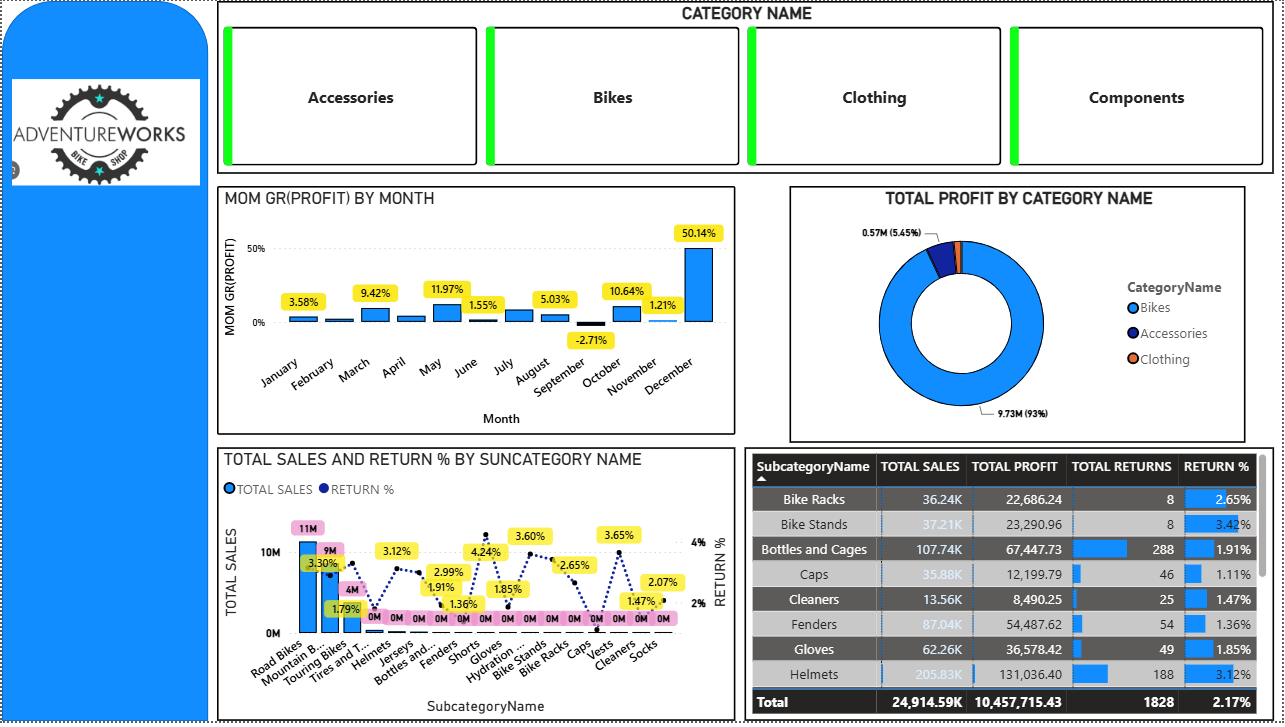

What the dashboard file says about the page in this screenshot:
{"tool":"powerbi","page":{"name":"CATEGORY ANALYSIS","canvas":[1280,720],"ordinal":2},"visuals":[{"type":"lineClusteredColumnComboChart","title":"TOTAL SALES AND RETURN % BY SUNCATEGORY NAME","fields":{"Category":["Product Subcategories Lookup csv.SubcategoryName"],"Y":["ALL MEASURES.TOTAL SALES"],"Y2":["ALL MEASURES.RETURN %"]},"box":[214.7,446.4,518.8,273.9],"z":0},{"type":"tableEx","fields":{"Values":["Product Subcategories Lookup csv.SubcategoryName","ALL MEASURES.TOTAL SALES","ALL MEASURES.total profit","ALL MEASURES.TOTAL RETURNS","ALL MEASURES.RETURN %"]},"box":[742,446.4,529.6,273.9],"z":1000},{"type":"shape","box":[0,0,206.3,720.2],"z":2000},{"type":"image","box":[9.7,72.4,188.2,118.2],"z":3000},{"type":"donutChart","title":"TOTAL PROFIT BY CATEGORY NAME","fields":{"Category":["Product Categories Lookup 1.CategoryName"],"Y":["ALL MEASURES.total profit"]},"box":[787.8,184.6,456,257],"z":4000},{"type":"clusteredColumnChart","title":"MOM GR(PROFIT) BY MONTH","fields":{"Category":["Calendar Lookup (1) csv.start of month.Variation.Date Hierarchy.Month"],"Y":["ALL MEASURES.MOM GR(PROFIT)"]},"box":[214.7,184.6,518.8,248.5],"z":5000},{"type":"advancedSlicerVisual","title":"CATEGORY NAME","fields":{"Values":["Product Categories Lookup 1.CategoryName"]},"box":[214.7,0,1056.8,172.5],"z":6000}]}

Visuals, with their boxes in screenshot pixels (x1, y1, x2, y2), scaled from the page's 1280x720 canvas onto the 1285x727 screenshot:
"TOTAL SALES AND RETURN % BY SUNCATEGORY NAME" lineClusteredColumnComboChart: {"x1": 216, "y1": 451, "x2": 736, "y2": 726}
tableEx - Product Subcategories Lookup csv.SubcategoryName x ALL MEASURES.TOTAL SALES: {"x1": 745, "y1": 451, "x2": 1277, "y2": 726}
shape: {"x1": 0, "y1": 0, "x2": 207, "y2": 726}
image: {"x1": 10, "y1": 73, "x2": 199, "y2": 192}
"TOTAL PROFIT BY CATEGORY NAME" donutChart: {"x1": 791, "y1": 186, "x2": 1249, "y2": 446}
"MOM GR(PROFIT) BY MONTH" clusteredColumnChart: {"x1": 216, "y1": 186, "x2": 736, "y2": 437}
"CATEGORY NAME" advancedSlicerVisual: {"x1": 216, "y1": 0, "x2": 1276, "y2": 174}
